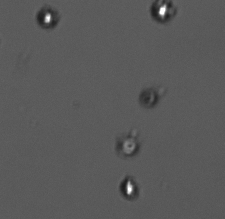Dead Cell: (117, 136, 141, 156), (139, 90, 158, 107)
Living Cell: (36, 7, 60, 29), (153, 1, 175, 22), (121, 176, 138, 199)
